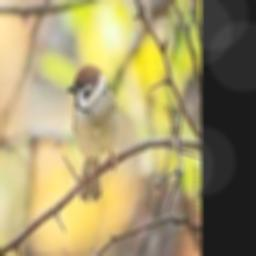Sparrow: (68, 67, 117, 200)
